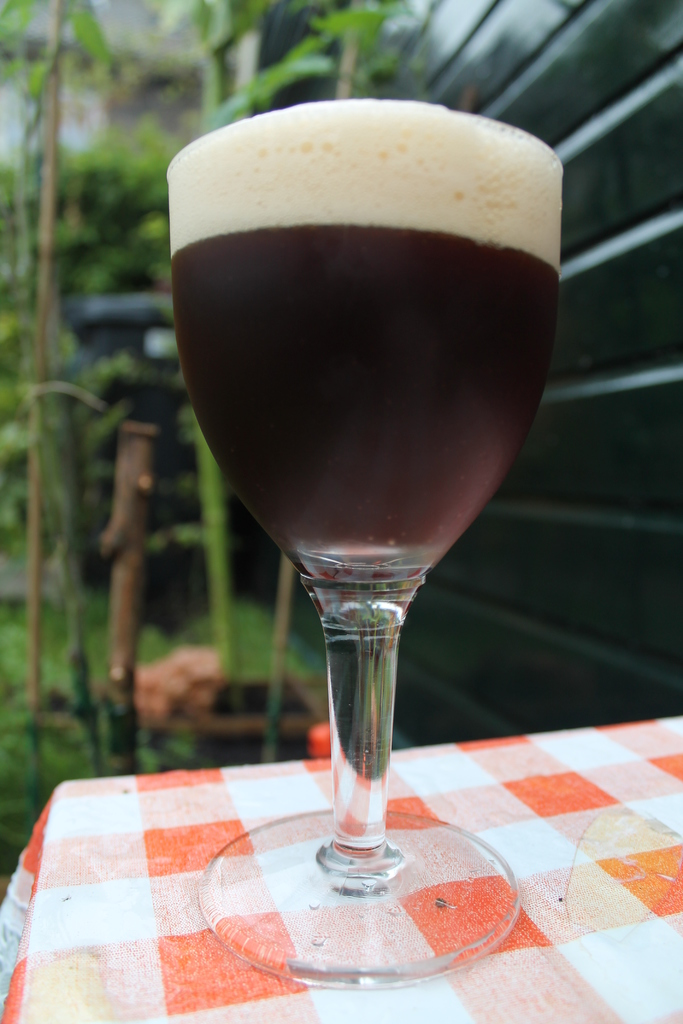Tree: (0, 0, 547, 785)
